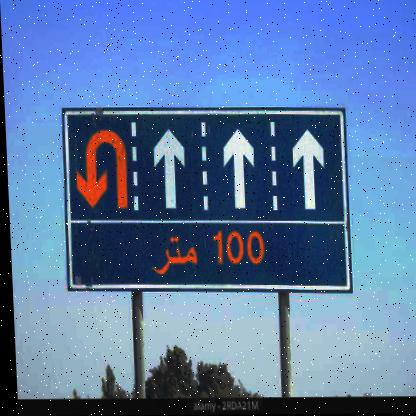U-turn: (63, 112, 129, 218)
